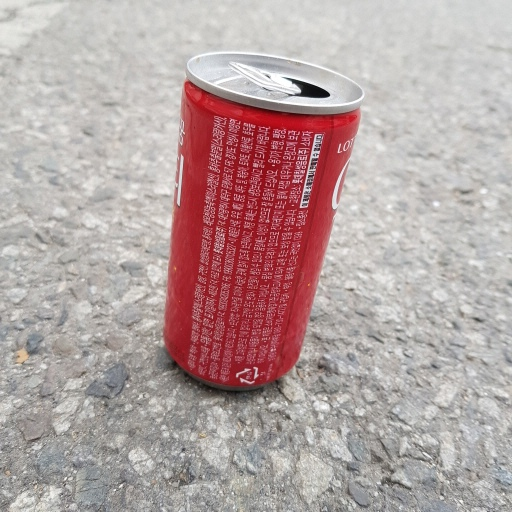Metal_0: (160, 50, 364, 396)
